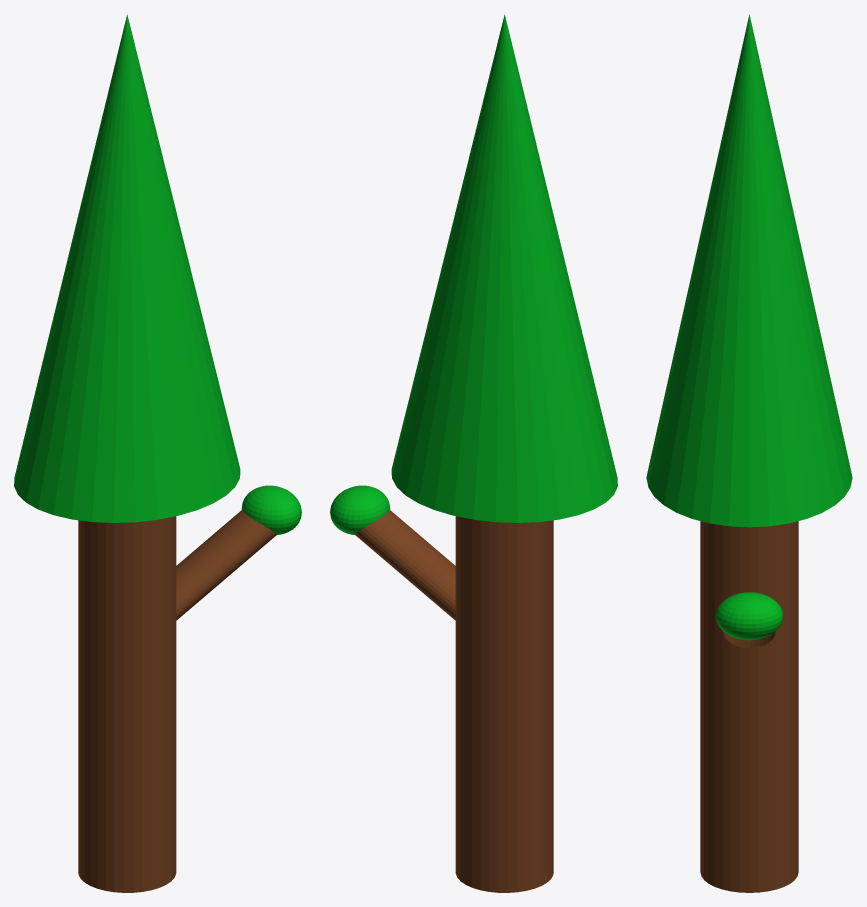
Rendered from Arvore3.fbx.
The picture shows the model from 3 angles, left to right: view 1: azimuth 30°, elevation 25°; view 2: azimuth 150°, elevation 25°; view 3: azimuth 270°, elevation 25°; orthographic projection.
Parts seen in each view (by area): view 1: Cone.001, Cylinder, Cylinder.001, Sphere; view 2: Cone.001, Cylinder, Cylinder.001, Sphere; view 3: Cone.001, Cylinder, Sphere.
Part boxes in pixels (x1,y1,x2,y2): Cone.001: [14, 14, 240, 522]; Cylinder: [78, 516, 176, 892]; Cylinder.001: [176, 510, 276, 620]; Sphere: [241, 485, 301, 534]; Cone.001: [391, 14, 617, 522]; Cylinder: [455, 516, 553, 892]; Cylinder.001: [355, 510, 455, 620]; Sphere: [330, 485, 390, 534]; Cone.001: [646, 14, 852, 527]; Cylinder: [700, 521, 798, 892]; Sphere: [715, 592, 783, 640].
Size of the model in its own units: 637 by 1929 by 420.
